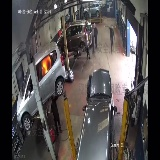fire: (40, 53, 53, 78)
